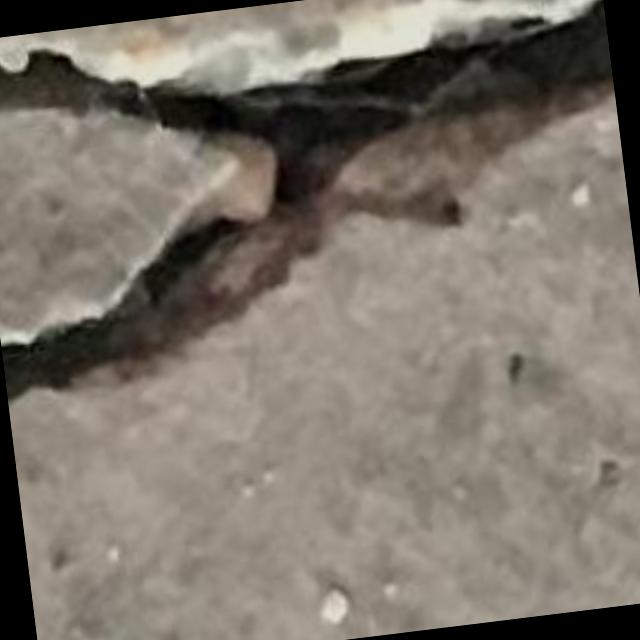crack: (0, 0, 614, 398)
